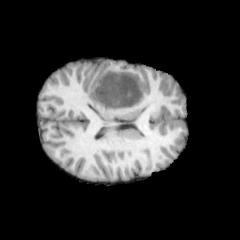glioma: (89, 70, 145, 110)
